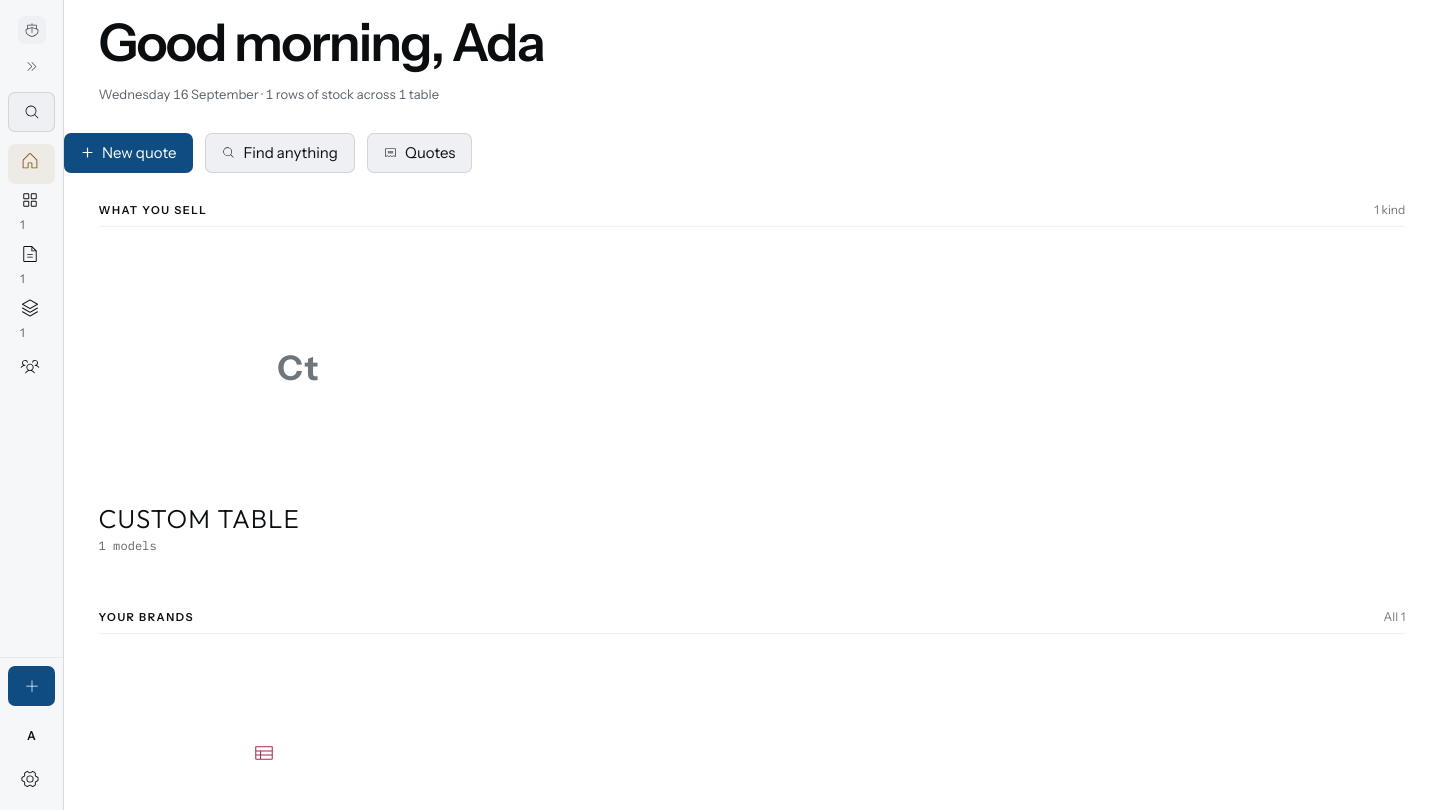
Test: all five kinds are reachable from the app, not only from the index › offers the TABLE, the ROW in it and the COLUMN it declares
The width and height of the screenshot is (1440, 810).
(page scrolled)
Step 1. Press k
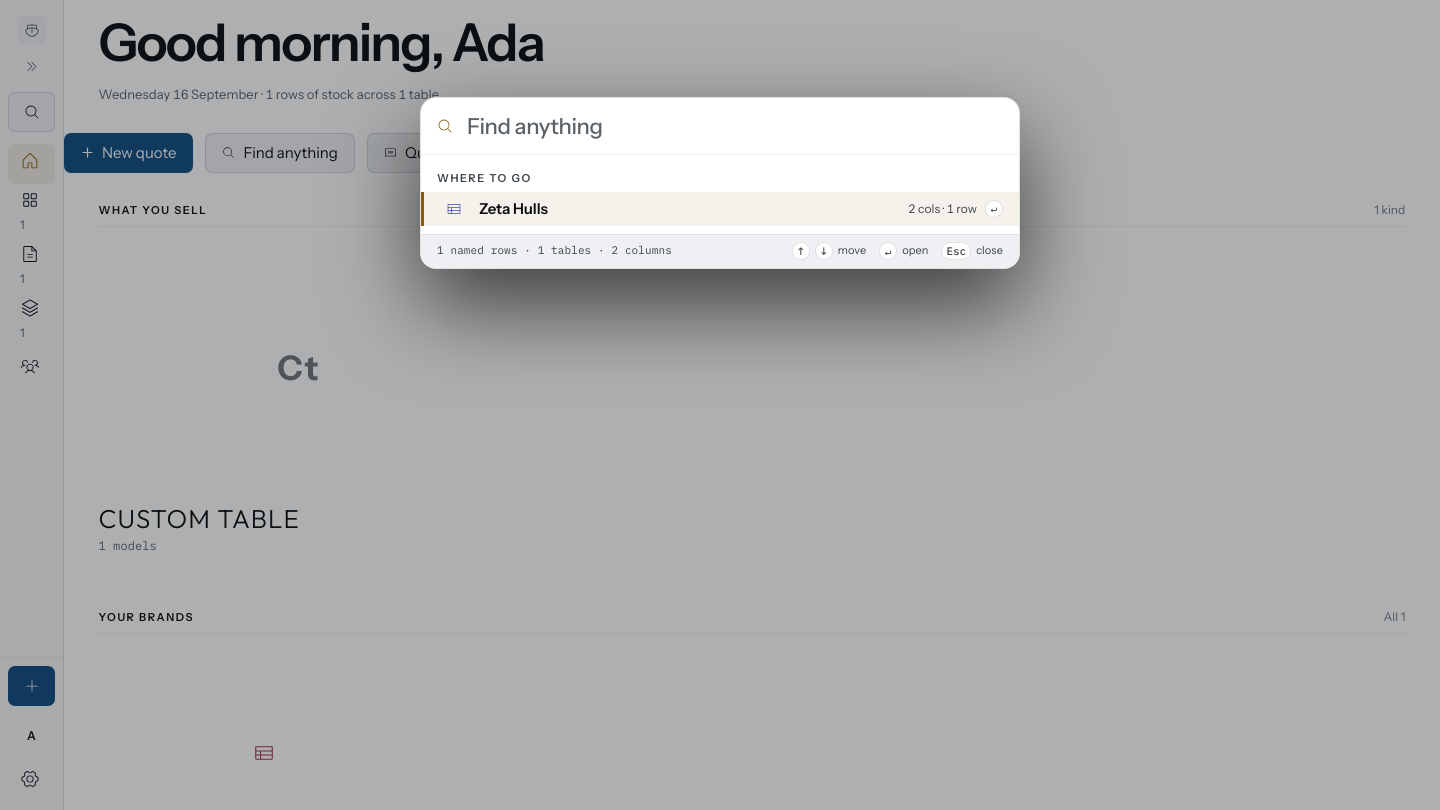
Step 2. Type "zeta" into the dropdown → [720, 126], box [421, 98, 1019, 154]
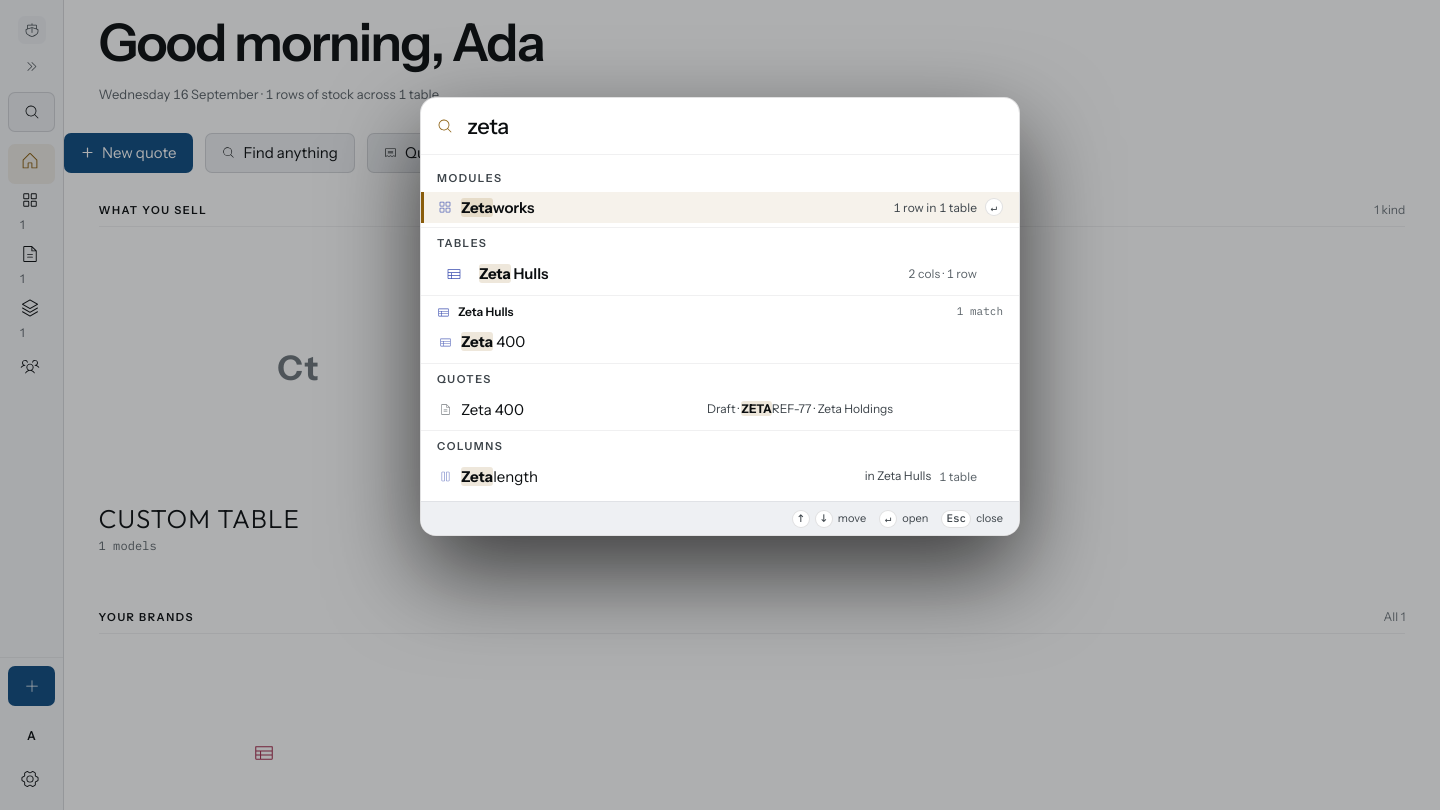
Expected: the option "Zetaworks 1 row in 1 table ↵" is shown, [421, 192, 1019, 223]
